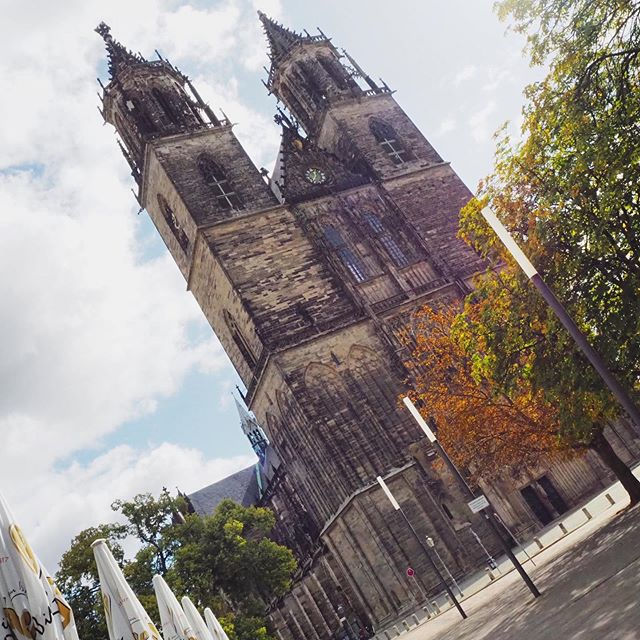building: (90, 1, 586, 626)
sky: (1, 9, 252, 520)
tree: (409, 279, 640, 525), (474, 34, 640, 350), (136, 508, 278, 640)
